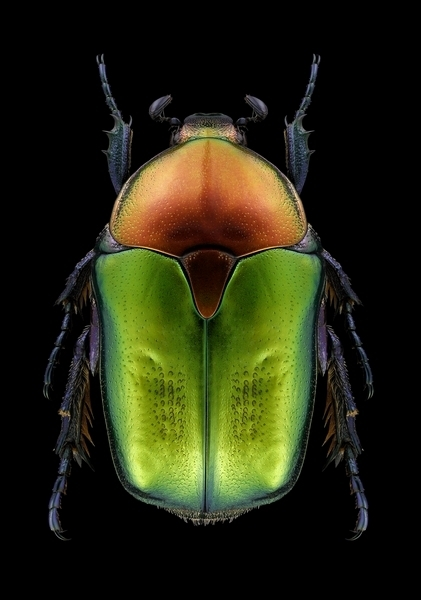Protaetia_cuprea_ignicollis: (39, 24, 377, 557)
